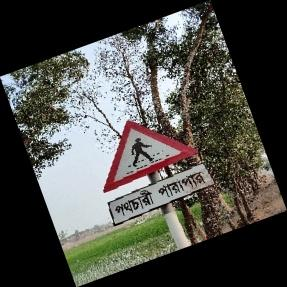Pedestrian-crossing: (102, 120, 212, 240)
